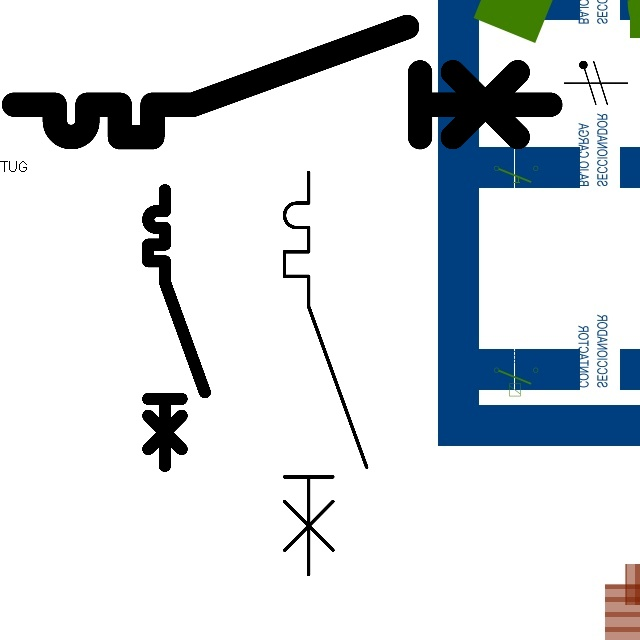interruptor_termomagnetico: (0, 13, 564, 151), (274, 162, 377, 585), (141, 183, 212, 473)
